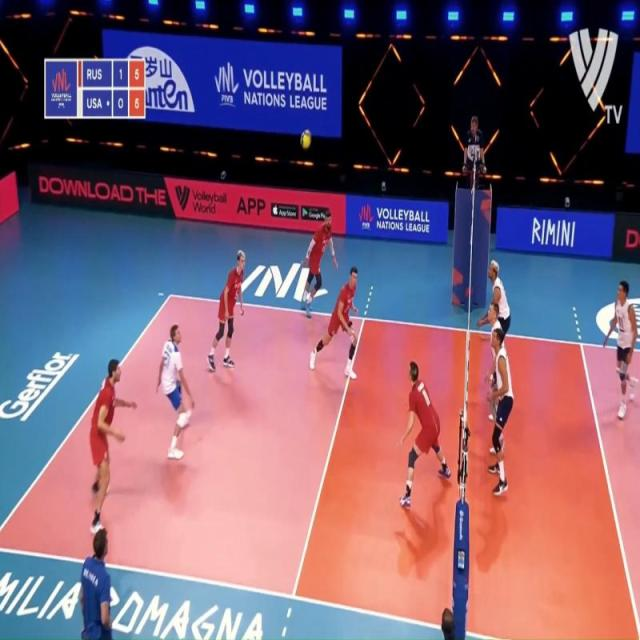volleyball: (301, 130, 312, 148)
